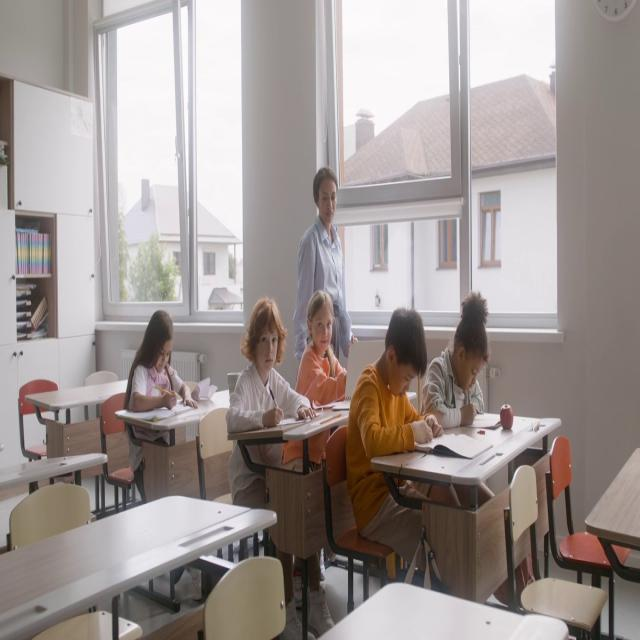writing: (348, 306, 463, 608), (229, 298, 323, 640), (124, 310, 204, 576), (420, 293, 489, 428), (296, 291, 346, 421)
